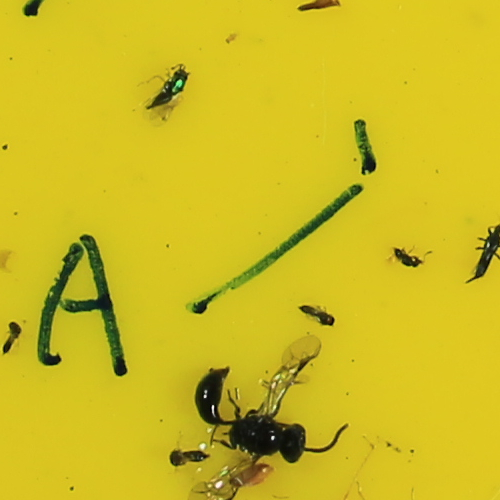Psyllaephagus: (143, 61, 195, 109)
